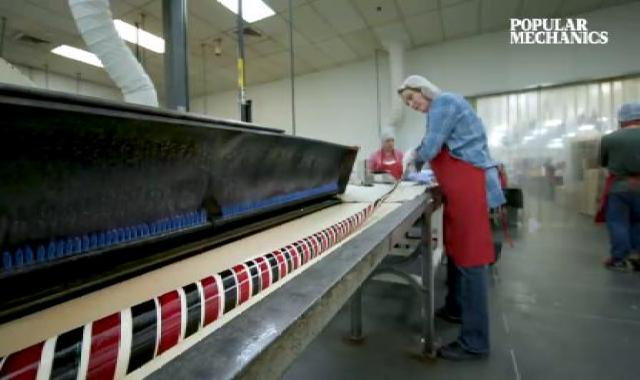hairnet: (392, 74, 446, 106), (614, 102, 640, 129), (375, 126, 399, 146)
